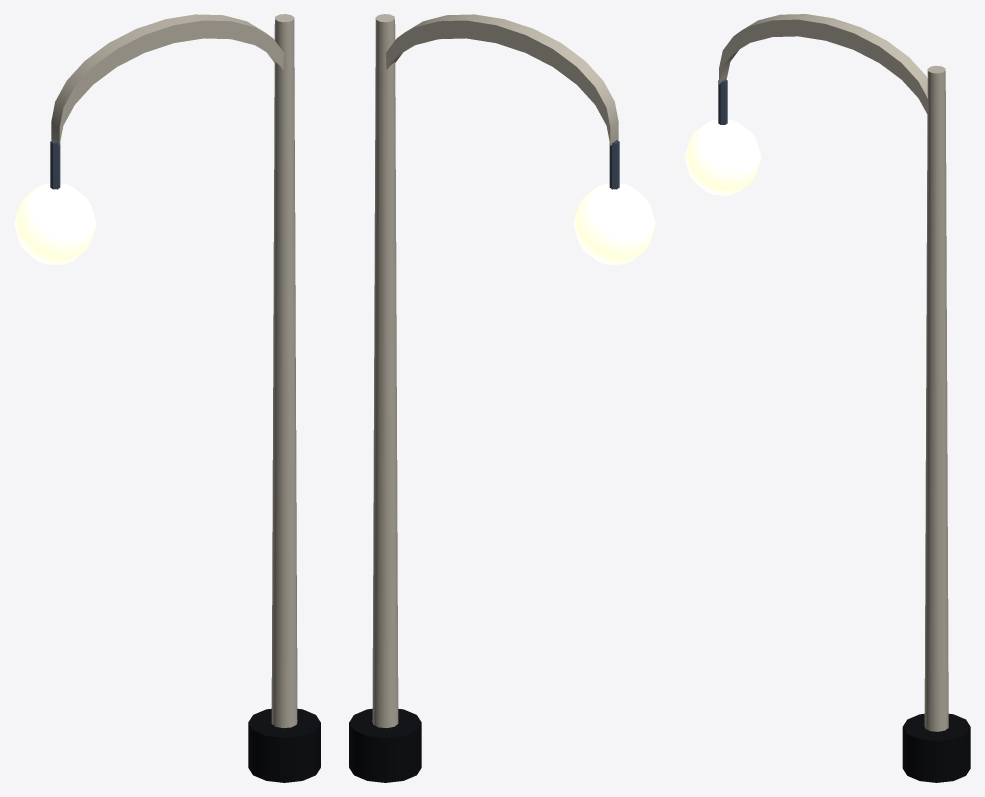
File: lamp_arc.glb
3 renders of one model, left to right at view 1: azimuth 30°, elevation 25°; view 2: azimuth 150°, elevation 25°; view 3: azimuth 330°, elevation 25°, orthographic. The views are drawn at different scales.
Parts seen in each view (by area): view 1: lamp_arc; view 2: lamp_arc; view 3: lamp_arc.
Boxes of the visible parts, x1,y1,x2,y2 form: lamp_arc: (14,14,320,782); lamp_arc: (349,14,655,782); lamp_arc: (684,14,970,782).
Bounding box in the file's own units: 2.07 × 5.16 × 0.5.
